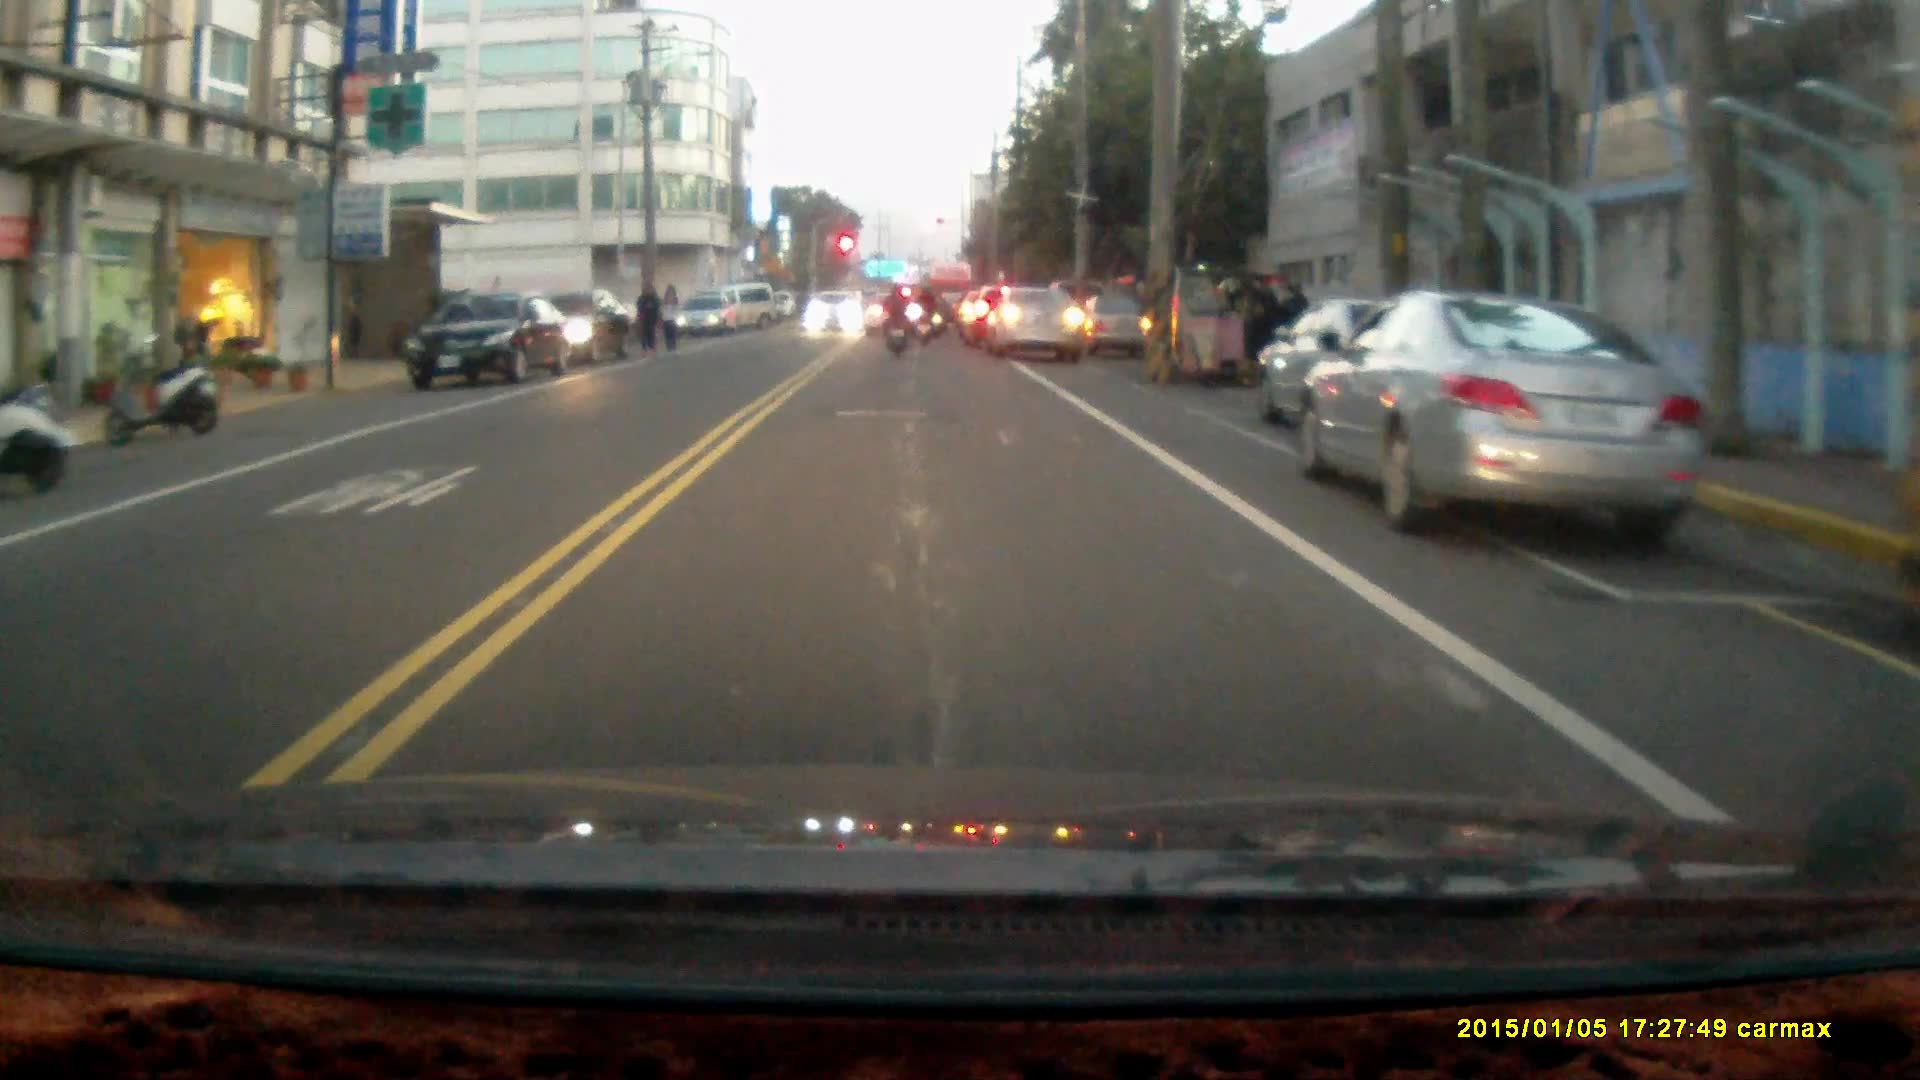pedestrian: (1275, 277, 1311, 368), (633, 279, 663, 359), (657, 281, 678, 358)
rider: (878, 281, 910, 357), (911, 283, 939, 348)
vehicle: (1297, 292, 1701, 547), (411, 288, 576, 391), (1128, 268, 1271, 387), (988, 285, 1090, 363), (804, 294, 862, 341), (677, 293, 736, 338)
